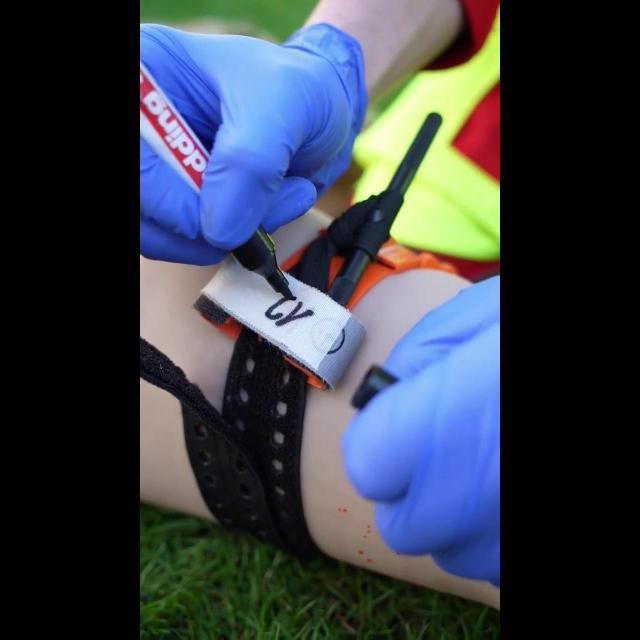blood: (326, 488, 396, 576)
